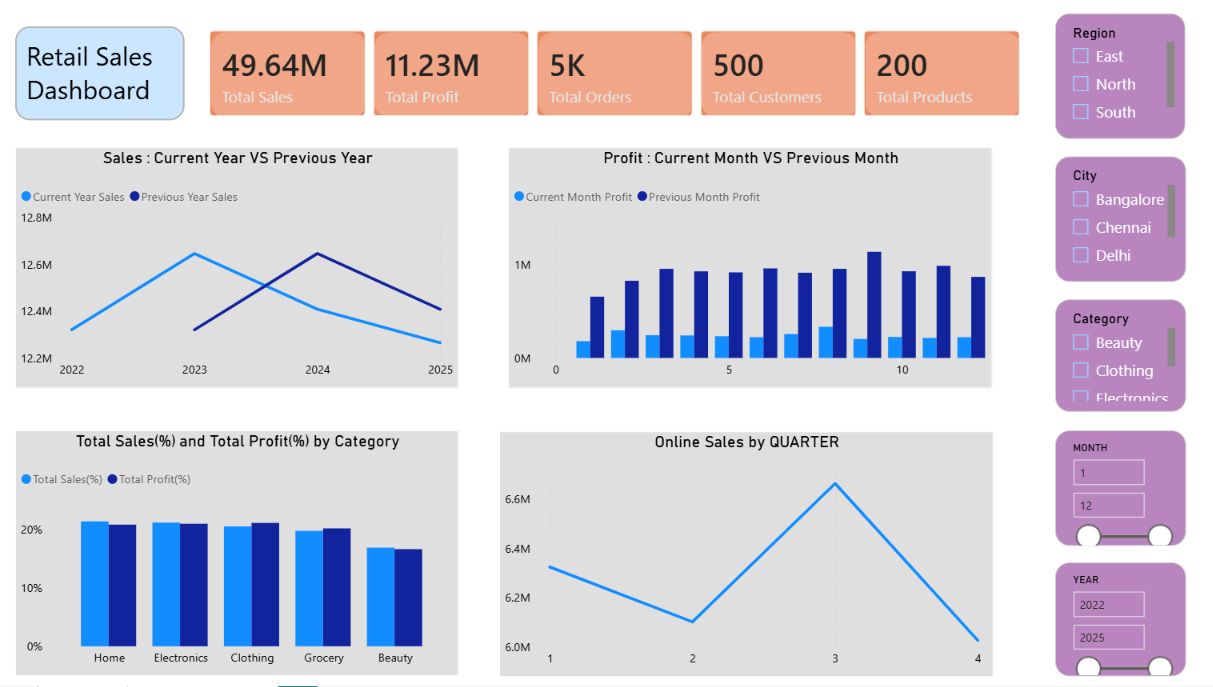

This screenshot's page, from the dashboard's own definition file:
{"tool":"powerbi","page":{"name":"Time Series Analysis","canvas":[1280,720],"ordinal":1},"visuals":[{"type":"slicer","fields":{"Values":["Dim Customer.Region"]},"box":[1106.2,20,135,130],"z":0},{"type":"slicer","fields":{"Values":["Dim Product.Category"]},"box":[1105.7,317.1,135.7,117.1],"z":1000},{"type":"slicer","fields":{"Values":["Dim Calender.MONTH"]},"box":[1105.7,452.9,135.7,120],"z":2000},{"type":"slicer","fields":{"Values":["Dim Calender.YEAR"]},"box":[1105.7,590,135.7,118.6],"z":3000},{"type":"slicer","fields":{"Values":["Dim Customer.City"]},"box":[1105.7,168.6,135.7,130],"z":4000},{"type":"textbox","box":[24.7,32.9,175.6,97.4],"z":5000},{"type":"cardVisual","fields":{"Data":["Fact Sales.Total Sales","Fact Sales.Total Profit","Fact Sales.Total Orders","Fact Sales.Total Customers","Fact Sales.Total Products"]},"box":[209.9,20.6,876.8,123.5],"z":6000},{"type":"lineChart","title":"Sales : Current Year VS Previous Year","fields":{"Category":["Dim Calender.YEAR"],"Y":["Fact Sales.Current Year Sales","Fact Sales.Previous Year Sales"]},"box":[24.4,158.9,461.1,250],"z":7000},{"type":"clusteredColumnChart","title":"Profit : Current Month VS Previous Month ","fields":{"Category":["Dim Calender.MONTH"],"Y":["Fact Sales.Current Month Profit","Fact Sales.Previous Month Profit"]},"box":[537.8,158.9,503.3,250],"z":8000},{"type":"clusteredColumnChart","fields":{"Category":["Dim Product.Category"],"Y":["Fact Sales.Total Sales(%)","Fact Sales.Total Profit(%)"]},"box":[24.4,453.3,461.1,255.6],"z":9000},{"type":"lineChart","fields":{"Category":["Dim Calender.QUARTER"],"Y":["Fact Sales.Online Sales"]},"box":[527.5,453.8,513.8,255],"z":10000}]}

Visuals, with their boxes in screenshot pixels (x1, y1, x2, y2), scaled from the page's 1280x720 canvas onto the 1213x687 screenshot:
slicer - Dim Customer.Region: [x1=1048, y1=19, x2=1176, y2=143]
slicer - Dim Product.Category: [x1=1048, y1=303, x2=1176, y2=414]
slicer - Dim Calender.MONTH: [x1=1048, y1=432, x2=1176, y2=547]
slicer - Dim Calender.YEAR: [x1=1048, y1=563, x2=1176, y2=676]
slicer - Dim Customer.City: [x1=1048, y1=161, x2=1176, y2=285]
textbox: [x1=23, y1=31, x2=190, y2=124]
cardVisual - Fact Sales.Total Sales x Fact Sales.Total Profit: [x1=199, y1=20, x2=1030, y2=137]
"Sales : Current Year VS Previous Year" lineChart: [x1=23, y1=152, x2=460, y2=390]
"Profit : Current Month VS Previous Month " clusteredColumnChart: [x1=510, y1=152, x2=987, y2=390]
clusteredColumnChart - Dim Product.Category x Fact Sales.Total Sales(%): [x1=23, y1=433, x2=460, y2=676]
lineChart - Dim Calender.QUARTER x Fact Sales.Online Sales: [x1=500, y1=433, x2=987, y2=676]
